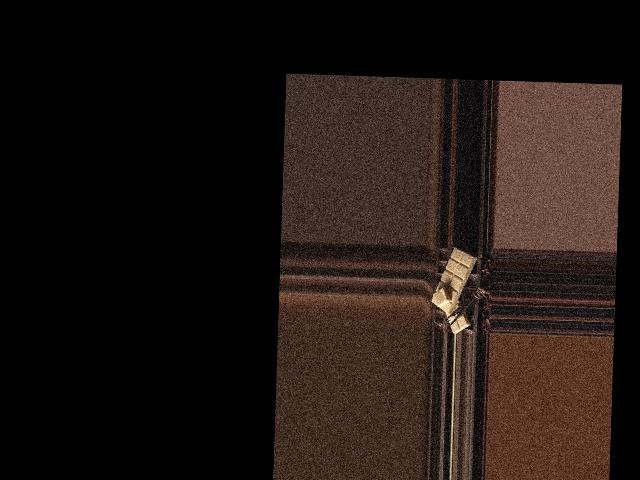chocolate: (431, 247, 476, 316)
